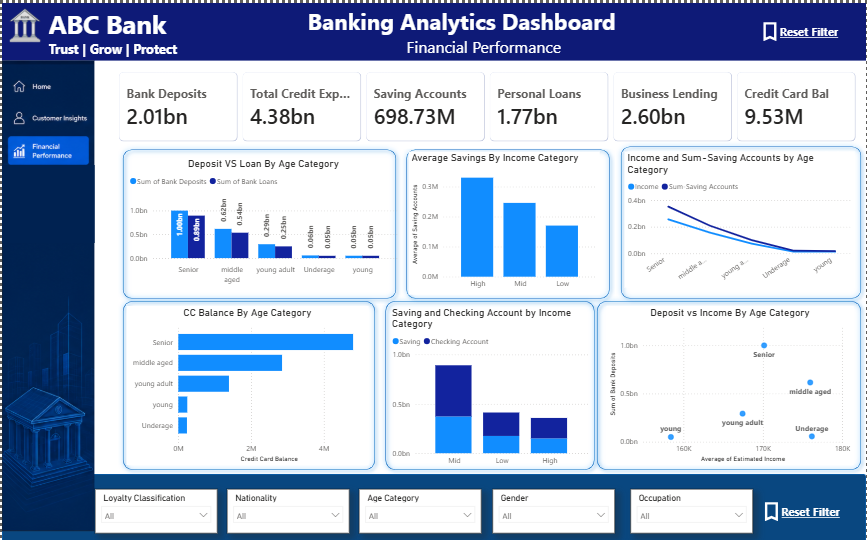

Layout of this report page (visuals, bound fields, positions):
{"tool":"powerbi","page":{"name":"Financial Performance","canvas":[1440,900],"ordinal":2},"visuals":[{"type":"shape","box":[665,235,356.7,266.7],"z":0},{"type":"shape","box":[0,786,1440,114],"z":1000},{"type":"shape","box":[981.7,486.7,458.3,300],"z":2000},{"type":"shape","box":[0,0,1440,96],"z":3000},{"type":"image","box":[0,0,76.5,74.2],"z":4000},{"type":"textbox","box":[72.9,0,237.1,95.7],"z":5000},{"type":"textbox","box":[382,0,768,96],"z":6000},{"type":"cardVisual","fields":{"Data":["Sum(Banking_Clean.Bank Deposits)","Banking_Clean.Total Loan","Sum(Banking_Clean.Saving Accounts)","Banking_Clean.Personal Loans","Banking_Clean.Total Business Lending","Sum(Banking_Clean.Credit Card Balance)"]},"box":[178,98,1262,150],"z":7000},{"type":"shape","box":[191.7,235,473.3,266.7],"z":8000},{"type":"clusteredColumnChart","title":"Deposit VS Loan By Age Category","fields":{"Category":["Banking_Clean.Age Category"],"Y":["Sum(Banking_Clean.Bank Deposits)","Sum(Banking_Clean.Bank Loans)"]},"box":[208.3,256.7,456.7,218.3],"z":9000},{"type":"slicer","fields":{"Values":["Banking_Clean.Occupation"]},"box":[1048,810,204,74],"z":10000},{"type":"slicer","fields":{"Values":["Banking_Clean.GenderId"]},"box":[818,810,204,74],"z":11000},{"type":"slicer","fields":{"Values":["Banking_Clean.Nationality"]},"box":[376,810,204,74],"z":12000},{"type":"slicer","fields":{"Values":["Banking_Clean.Age Category"]},"box":[596,810,204,74],"z":13000},{"type":"actionButton","box":[1260,28,138,40],"z":14000},{"type":"actionButton","box":[1262,828,138,40],"z":15000},{"type":"shape","box":[1021.7,230,418.3,271.7],"z":16000},{"type":"image","box":[0,74,154,826],"z":17000},{"type":"slicer","fields":{"Values":["Banking_Clean.Loyalty Classification"]},"box":[154,810,204,74],"z":18000},{"type":"scatterChart","title":"Deposit vs Income By Age Category ","fields":{"X":["Avg(Banking_Clean.Estimated Income)"],"Y":["Sum(Banking_Clean.Bank Deposits)"],"Category":["Banking_Clean.Age Category"]},"box":[1008.3,505,411.7,265],"z":19000},{"type":"columnChart","title":"Average Savings By Income Category","fields":{"Category":["Banking_Clean.Income Category"],"Y":["Avg(Banking_Clean.Saving Accounts)"]},"box":[678.3,248.3,318.3,238.3],"z":20000},{"type":"lineChart","fields":{"Category":["Banking_Clean.Age Category"],"Y":["Sum(Banking_Clean.Estimated Income)","Sum(Banking_Clean.Saving Accounts)"]},"box":[1036.7,248.3,383.3,226.7],"z":21000},{"type":"shape","box":[191.7,488.3,438.3,300],"z":21001},{"type":"barChart","title":"CC Balance By Age Category","fields":{"Category":["Banking_Clean.Age Category"],"Y":["Sum(Banking_Clean.Credit Card Balance)"]},"box":[208.3,505,403.3,265],"z":21002},{"type":"columnChart","fields":{"Y":["Sum(Banking_Clean.Saving Accounts)","Sum(Banking_Clean.Checking Accounts)"],"Category":["Banking_Clean.Income Category"]},"box":[645,505,336.7,275],"z":21003},{"type":"shape","box":[630,488.3,366.7,300],"z":21004},{"type":"shape","box":[0,271.1,154.4,130],"z":21005}]}

Visuals, with their boxes on the page's 1440x900 design canvas (x1, y1, x2, y2). These are canvas units, not pixel positions in the 867x540 screenshot, which may show the page scaled, cropped or inside an application window:
shape: l=665, t=235, r=1022, b=502
shape: l=0, t=786, r=1440, b=900
shape: l=982, t=487, r=1440, b=787
shape: l=0, t=0, r=1440, b=96
image: l=0, t=0, r=76, b=74
textbox: l=73, t=0, r=310, b=96
textbox: l=382, t=0, r=1150, b=96
cardVisual - Sum(Banking_Clean.Bank Deposits) x Banking_Clean.Total Loan: l=178, t=98, r=1440, b=248
shape: l=192, t=235, r=665, b=502
"Deposit VS Loan By Age Category" clusteredColumnChart: l=208, t=257, r=665, b=475
slicer - Banking_Clean.Occupation: l=1048, t=810, r=1252, b=884
slicer - Banking_Clean.GenderId: l=818, t=810, r=1022, b=884
slicer - Banking_Clean.Nationality: l=376, t=810, r=580, b=884
slicer - Banking_Clean.Age Category: l=596, t=810, r=800, b=884
actionButton: l=1260, t=28, r=1398, b=68
actionButton: l=1262, t=828, r=1400, b=868
shape: l=1022, t=230, r=1440, b=502
image: l=0, t=74, r=154, b=900
slicer - Banking_Clean.Loyalty Classification: l=154, t=810, r=358, b=884
"Deposit vs Income By Age Category " scatterChart: l=1008, t=505, r=1420, b=770
"Average Savings By Income Category" columnChart: l=678, t=248, r=997, b=487
lineChart - Banking_Clean.Age Category x Sum(Banking_Clean.Estimated Income): l=1037, t=248, r=1420, b=475
shape: l=192, t=488, r=630, b=788
"CC Balance By Age Category" barChart: l=208, t=505, r=612, b=770
columnChart - Sum(Banking_Clean.Saving Accounts) x Sum(Banking_Clean.Checking Accounts): l=645, t=505, r=982, b=780
shape: l=630, t=488, r=997, b=788
shape: l=0, t=271, r=154, b=401
